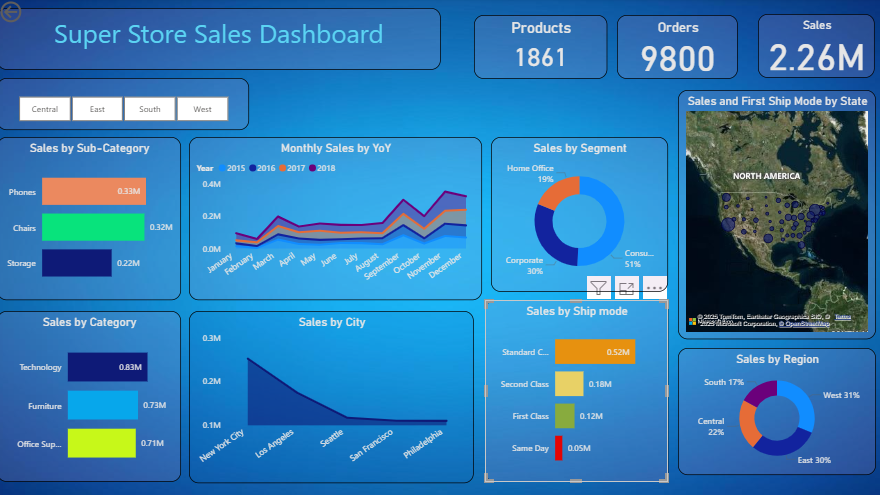

Layout of this report page (visuals, bound fields, positions):
{"tool":"powerbi","page":{"name":"Page 1","canvas":[1280,720],"ordinal":0},"visuals":[{"type":"clusteredBarChart","title":" Sales by Category","fields":{"Category":["Superstore.Category"],"Y":["Sum(Superstore.Sales)"]},"box":[0,450.7,265,246.2],"z":0},{"type":"clusteredBarChart","title":" Sales by Sub-Category","fields":{"Category":["Superstore.Sub-Category"],"Y":["Sum(Superstore.Sales)"]},"box":[0,200.2,265,234.7],"z":1000},{"type":"clusteredBarChart","title":" Sales by Ship mode","fields":{"Category":["Superstore.Ship Mode"],"Y":["Sum(Superstore.Sales)"]},"box":[702.7,434.9,263.5,262.1],"z":2000},{"type":"stackedAreaChart","title":"Monthly Sales by YoY","fields":{"Y":["Sum(Superstore.Sales)"],"Category":["Superstore.Order Date.Variation.Date Hierarchy.Month"],"Series":["Superstore.Order Date.Variation.Date Hierarchy.Year"]},"box":[276.5,200.2,421.9,234.7],"z":3000},{"type":"areaChart","title":"Sales by City","fields":{"Category":["Superstore.City"],"Y":["Sum(Superstore.Sales)"]},"box":[276.5,450.7,410.4,247.7],"z":4000},{"type":"map","title":"Sales and First Ship Mode by State","fields":{"Category":["Superstore.State"],"Size":["Sum(Superstore.Sales)"]},"box":[980.6,132.5,285.1,358.6],"z":5000},{"type":"donutChart","title":"Sales by Segment","fields":{"Category":["Superstore.Segment"],"Y":["Sum(Superstore.Sales)"]},"box":[711.4,200.2,254.9,223.2],"z":6000},{"type":"donutChart","title":"Sales by Region","fields":{"Y":["Sum(Superstore.Sales)"],"Category":["Superstore.Region"]},"box":[980.6,504,285.1,182.9],"z":7000},{"type":"slicer","fields":{"Values":["Superstore.Region"]},"box":[0,115.2,362.9,74.9],"z":8000},{"type":"textbox","box":[0,14.4,639.4,89.3],"z":9000},{"type":"card","title":"Sales","fields":{"Values":["Sum(Superstore.Sales)"]},"box":[1095.8,23,168.5,92.2],"z":10000},{"type":"card","title":"Orders","fields":{"Values":["CountNonNull(Superstore.Order ID)"]},"box":[892.8,24.5,174.2,92.2],"z":11000},{"type":"actionButton","box":[0,0,100,40],"z":12000},{"type":"card","title":"Products","fields":{"Values":["Count(Superstore.Product ID)"]},"box":[686.9,24.5,191.5,92.2],"z":13000}]}

Visuals, with their boxes in screenshot pixels (x1, y1, x2, y2), scaled from the page's 1280x720 canvas onto the 880x495 screenshot:
" Sales by Category" clusteredBarChart: (x1=0, y1=310, x2=182, y2=479)
" Sales by Sub-Category" clusteredBarChart: (x1=0, y1=138, x2=182, y2=299)
" Sales by Ship mode" clusteredBarChart: (x1=483, y1=299, x2=664, y2=479)
"Monthly Sales by YoY" stackedAreaChart: (x1=190, y1=138, x2=480, y2=299)
"Sales by City" areaChart: (x1=190, y1=310, x2=472, y2=480)
"Sales and First Ship Mode by State" map: (x1=674, y1=91, x2=870, y2=338)
"Sales by Segment" donutChart: (x1=489, y1=138, x2=664, y2=291)
"Sales by Region" donutChart: (x1=674, y1=346, x2=870, y2=472)
slicer - Superstore.Region: (x1=0, y1=79, x2=249, y2=131)
textbox: (x1=0, y1=10, x2=440, y2=71)
"Sales" card: (x1=753, y1=16, x2=869, y2=79)
"Orders" card: (x1=614, y1=17, x2=734, y2=80)
actionButton: (x1=0, y1=0, x2=69, y2=28)
"Products" card: (x1=472, y1=17, x2=604, y2=80)
